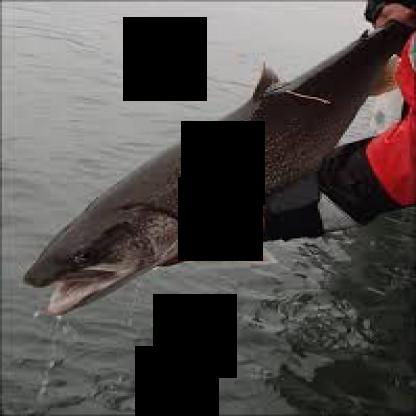fish: (24, 9, 406, 320)
